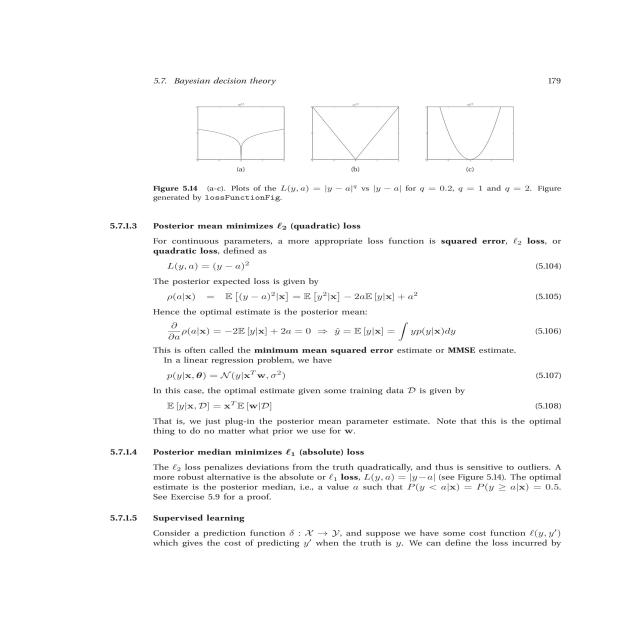diagram: (134, 55, 640, 214)
